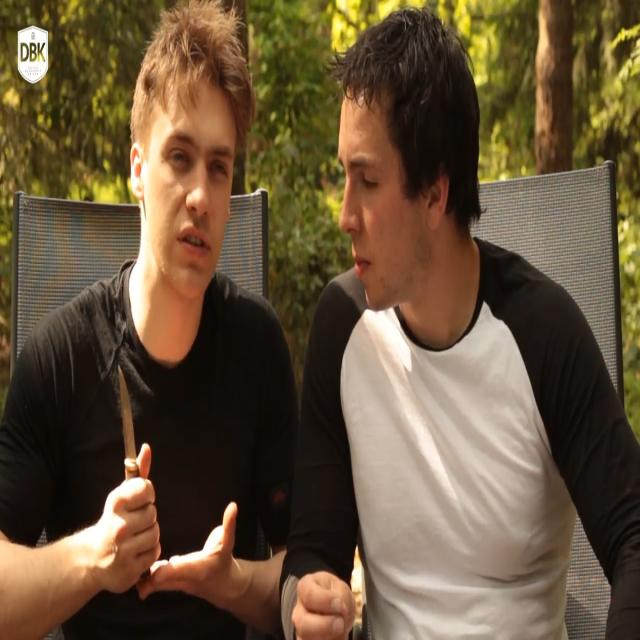knife: (112, 362, 144, 484)
